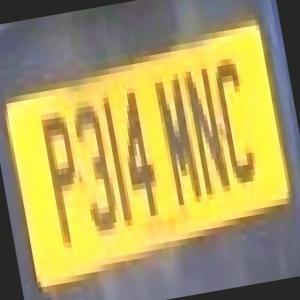Plate: (0, 7, 300, 300)
